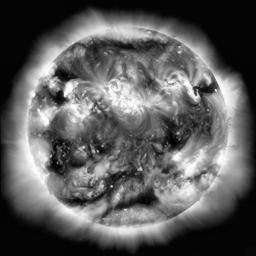solar flares: (105, 80, 155, 122), (163, 76, 203, 102), (103, 29, 156, 43), (69, 101, 91, 122), (61, 81, 85, 99), (178, 159, 205, 174), (73, 168, 96, 185), (34, 107, 56, 124), (169, 153, 189, 168), (97, 161, 116, 172)
sunspots: (98, 41, 155, 54), (52, 141, 75, 170), (163, 122, 184, 150), (122, 194, 161, 207), (105, 173, 146, 183), (196, 81, 218, 98), (90, 141, 107, 155), (60, 69, 75, 84), (47, 89, 61, 104)
